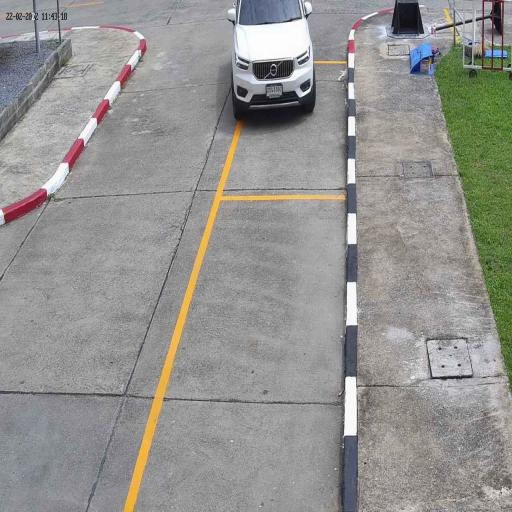car: (231, 0, 316, 120)
